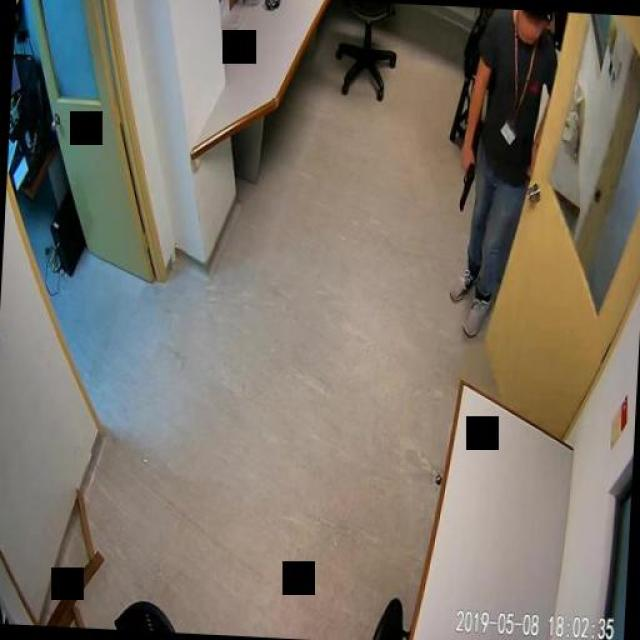gun: (458, 158, 473, 212)
